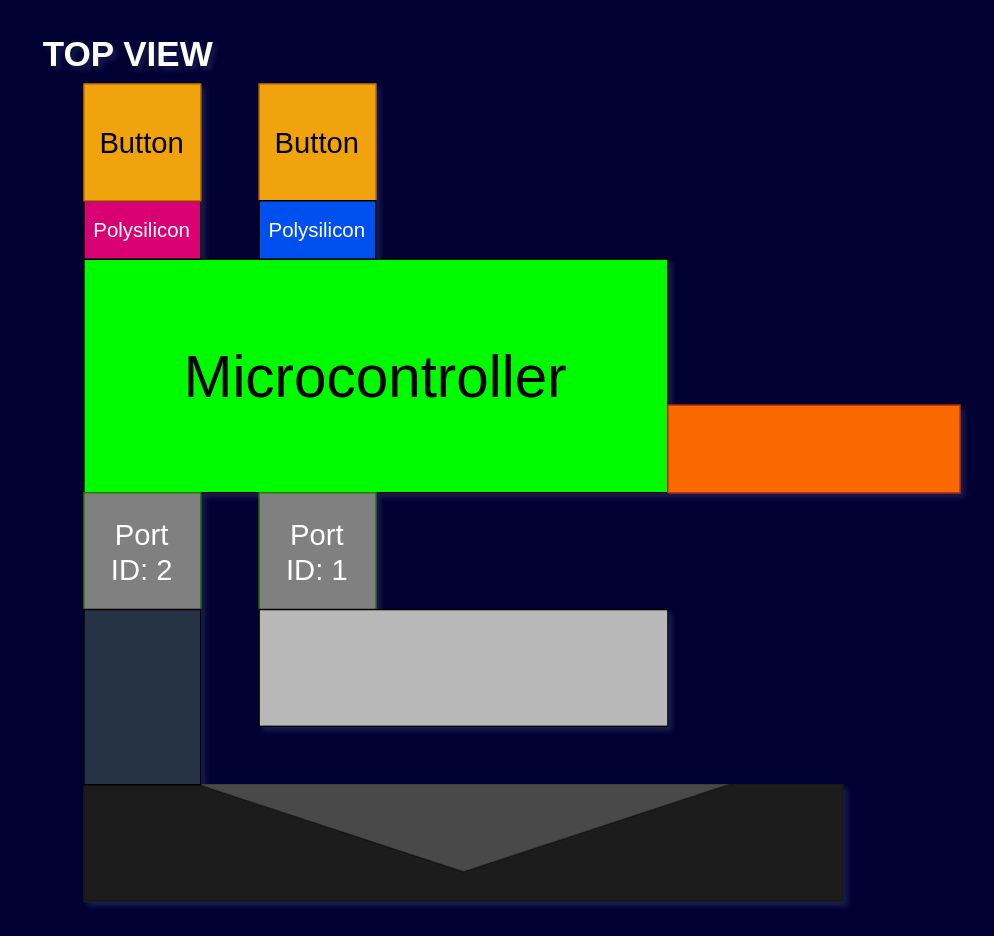
This 994x936 diagram has some shape labels left out. The box of each missing label's shape, as (x1, y1, x2, y2) in pixels:
Ethernet: (82, 608, 201, 785)
Keyboard: (258, 608, 668, 726)
Screen: (82, 783, 843, 902)
Wire (with Power): (666, 404, 960, 493)
